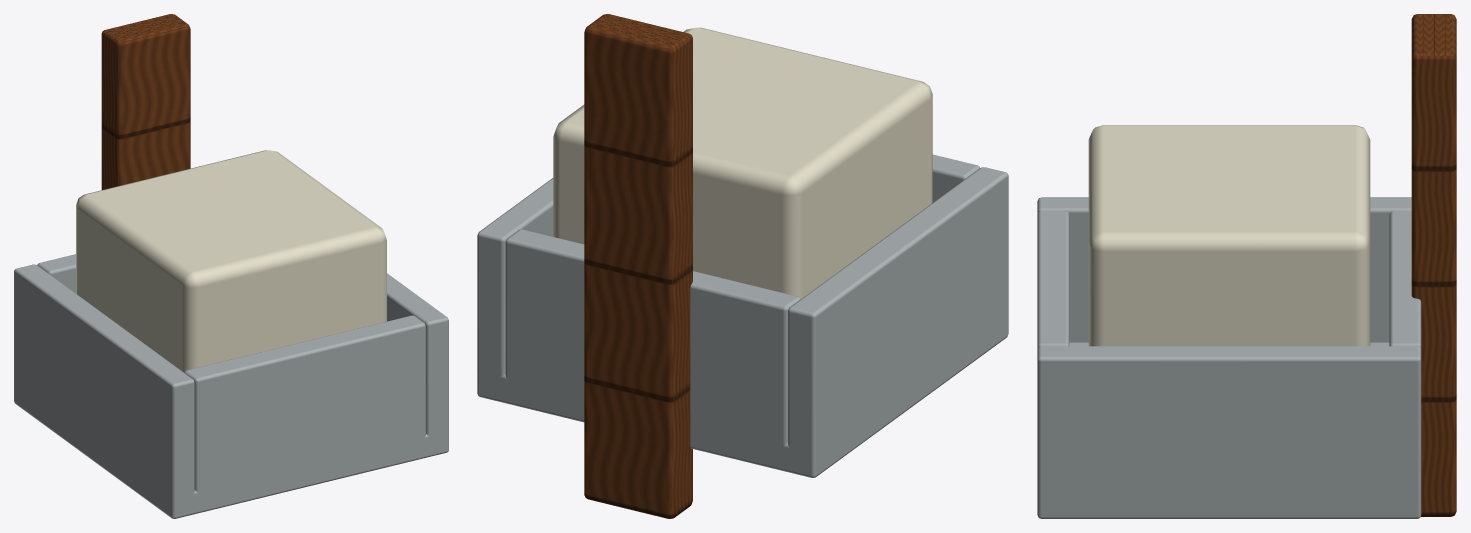
The model's file is creature-husbandry-and-transport-mineral-lick-holder-330ee1f6__23998.glb.
3 renders of one model, left to right at view 1: azimuth 30°, elevation 25°; view 2: azimuth 150°, elevation 25°; view 3: azimuth 270°, elevation 25°, orthographic. The views are drawn at different scales.
Visible parts, largest first — view 1: mineral-lick-holder; view 2: mineral-lick-holder; view 3: mineral-lick-holder.
Part boxes in pixels (box(x1,y1,x2,y2)): mineral-lick-holder: box(14, 14, 448, 518); mineral-lick-holder: box(477, 14, 1008, 518); mineral-lick-holder: box(1037, 14, 1456, 518).
Bounding box in the file's own units: 0.3 × 0.4 × 0.3275.
Materials: 3 (1 with a texture image).
